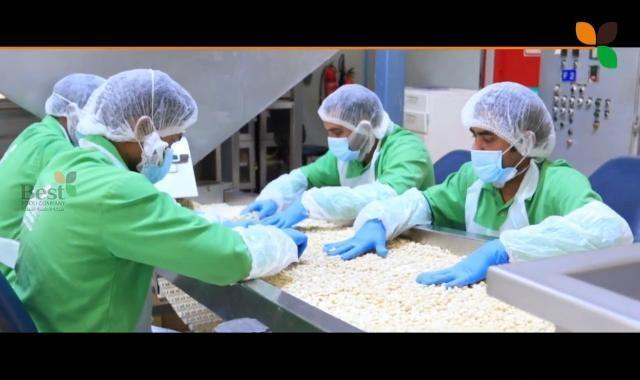apron: (415, 238, 509, 290), (320, 215, 391, 266), (256, 216, 316, 258), (260, 200, 310, 228), (238, 184, 276, 217)
gloves: (79, 72, 203, 146), (462, 84, 556, 160), (316, 88, 386, 146), (44, 71, 100, 117)
mask: (132, 119, 182, 190), (462, 131, 520, 185), (315, 126, 366, 167)
